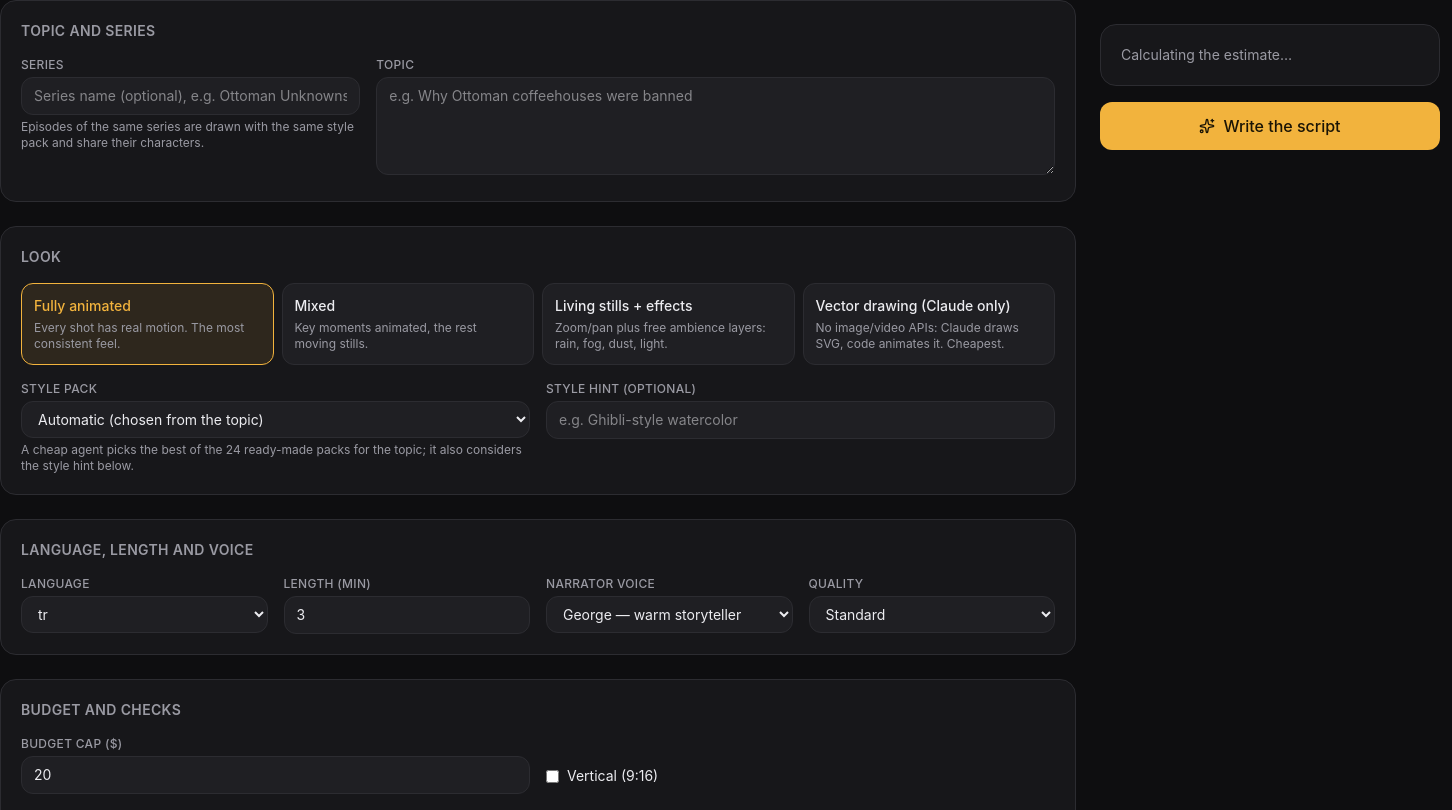
Test: NewEpisodeForm › stil paketi: hazır paket paleti ve çizgi stili, özel paket ipucu (İngilizce)
Select "Flat explainer" in the dropdown with id "stylePack": (276, 420) x1=21 y1=401 x2=530 y2=438
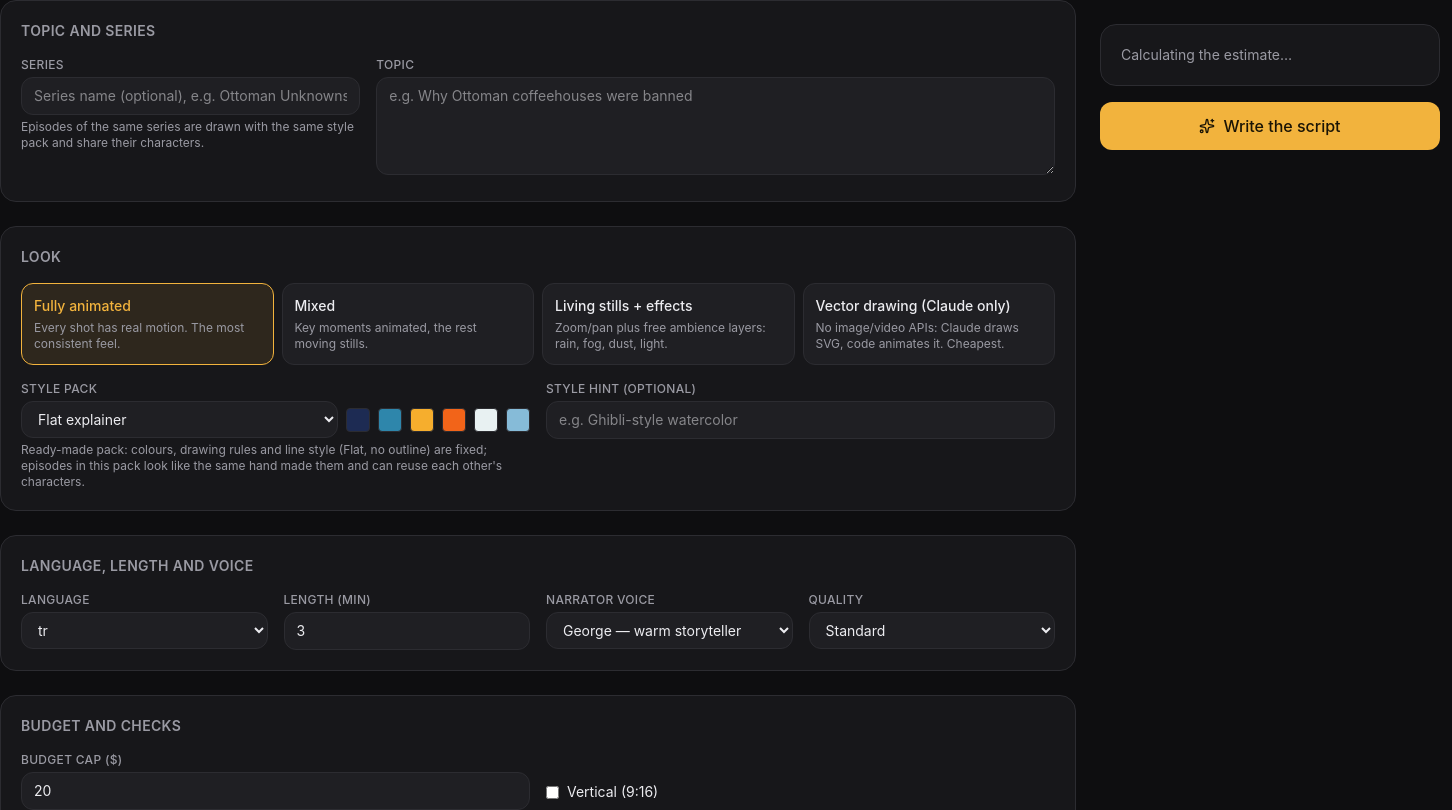
Result: the number of elements with id "1d2b53" is 1 at x1=346 y1=408 x2=370 y2=432
Select "Custom (the art director designs freely)" in the dropdown with id "stylePack": (180, 420) x1=21 y1=401 x2=338 y2=438
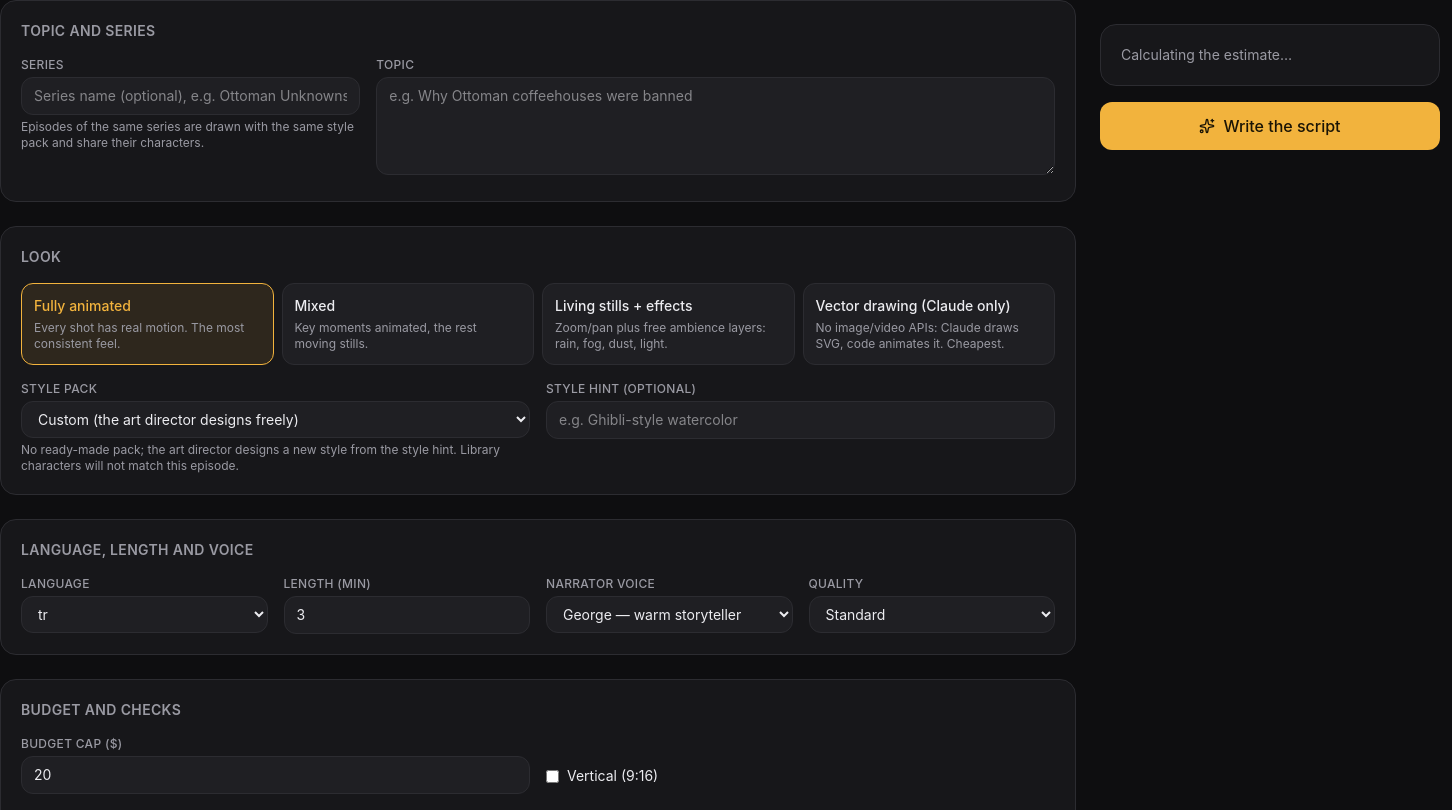
Result: the text "No ready-made pack; the art director designs a new style from the style hint. Library characters will not match this epi" is shown at x1=21 y1=442 x2=500 y2=473
Result: no elements with id "1d2b53" are shown
